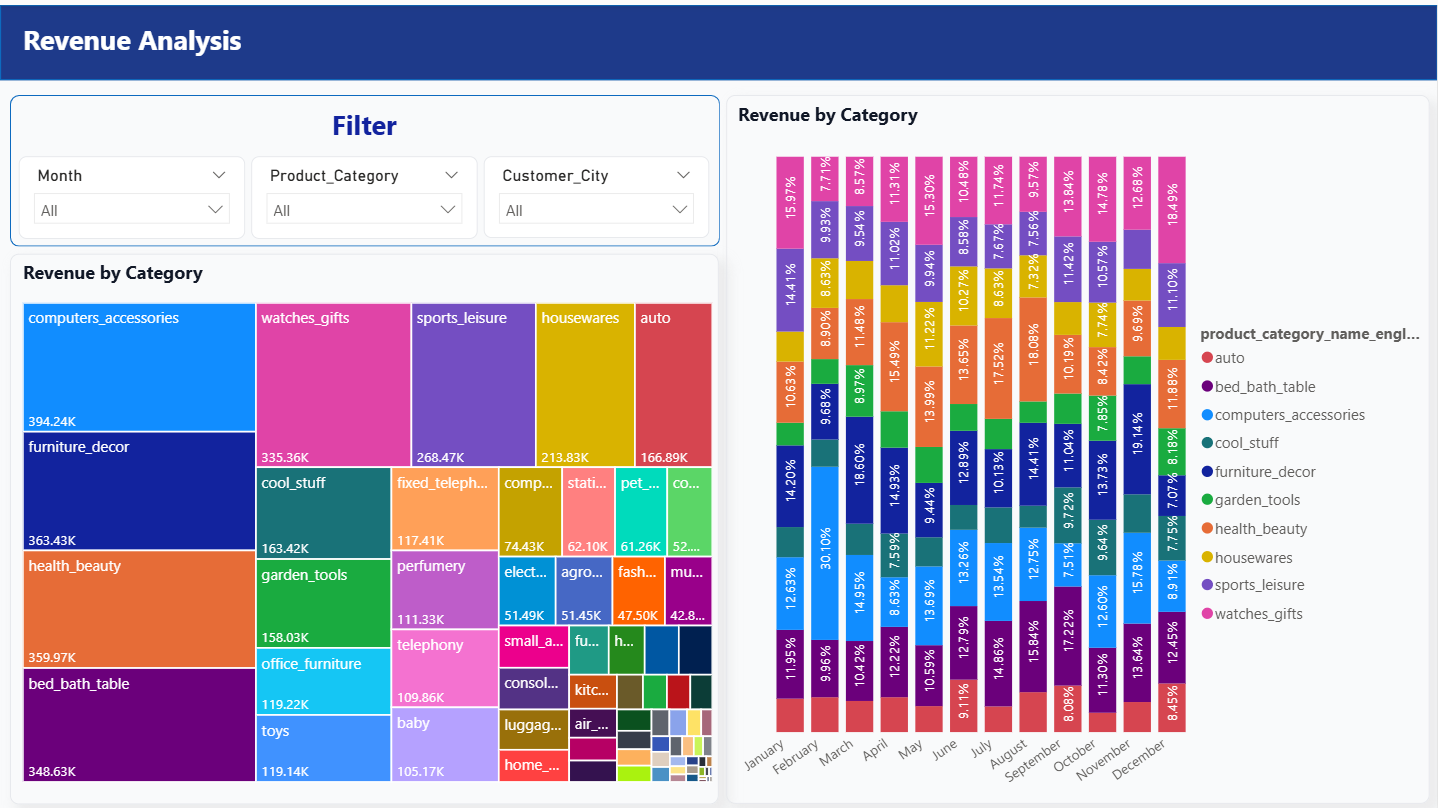

This screenshot's page, from the dashboard's own definition file:
{"tool":"powerbi","page":{"name":"Page 2","canvas":[1280,720],"ordinal":1},"visuals":[{"type":"shape","box":[0,0,1280.3,67],"z":0},{"type":"textbox","box":[15.5,9.9,1257.7,49.3],"z":1000},{"type":"shape","box":[8.5,221.1,631,490.1],"z":2000},{"type":"shape","box":[8.5,80.3,632.4,135],"z":3000},{"type":"textbox","box":[15.5,221.1,273.2,39.4],"z":4000},{"type":"shape","box":[646.5,80.3,626.8,631],"z":5000},{"type":"treemap","fields":{"Group":["final_dataset.product_category_name_english"],"Values":["final_dataset.Total Revenue"]},"box":[15.5,260.6,623.9,436.6],"z":6000},{"type":"hundredPercentStackedColumnChart","fields":{"Category":["final_dataset.order_month.Variation.Date Hierarchy.Month"],"Series":["final_dataset.product_category_name_english"],"Y":["final_dataset.Total Revenue"]},"box":[652.1,121.1,615.5,594.4],"z":7000},{"type":"textbox","box":[652.1,81.7,273.2,39.4],"z":8000},{"type":"slicer","fields":{"Values":["final_dataset.order_approved_at.Variation.Date Hierarchy.Month"]},"box":[16.9,134.2,201.4,73.2],"z":9000},{"type":"slicer","fields":{"Values":["final_dataset.product_category_name_english"]},"box":[223.9,134.2,201.4,73.2],"z":10000},{"type":"slicer","fields":{"Values":["final_dataset.customer_city"]},"box":[431,134.3,201,73],"z":11000},{"type":"textbox","box":[16.9,85.9,615.5,49.3],"z":11001}]}

Visuals, with their boxes in screenshot pixels (x1, y1, x2, y2), scaled from the page's 1280x720 canvas onto the 1438x808 screenshot:
shape: x1=0, y1=0, x2=1437, y2=75
textbox: x1=17, y1=11, x2=1430, y2=66
shape: x1=10, y1=248, x2=718, y2=798
shape: x1=10, y1=90, x2=720, y2=242
textbox: x1=17, y1=248, x2=324, y2=292
shape: x1=726, y1=90, x2=1430, y2=798
treemap - final_dataset.product_category_name_english x final_dataset.Total Revenue: x1=17, y1=292, x2=718, y2=782
hundredPercentStackedColumnChart - final_dataset.order_month.Variation.Date Hierarchy.Month x final_dataset.product_category_name_english: x1=733, y1=136, x2=1424, y2=803
textbox: x1=733, y1=92, x2=1040, y2=136
slicer - final_dataset.order_approved_at.Variation.Date Hierarchy.Month: x1=19, y1=151, x2=245, y2=233
slicer - final_dataset.product_category_name_english: x1=252, y1=151, x2=478, y2=233
slicer - final_dataset.customer_city: x1=484, y1=151, x2=710, y2=233
textbox: x1=19, y1=96, x2=710, y2=152
